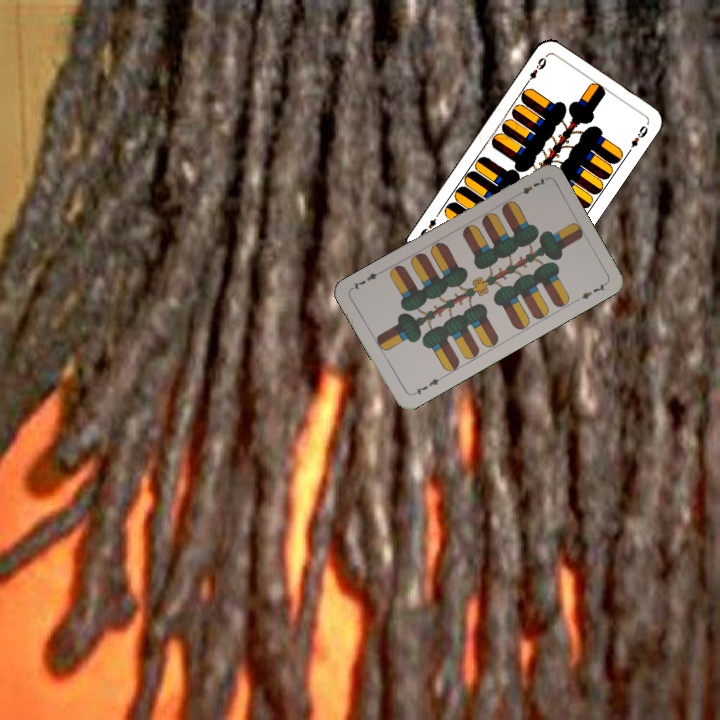E7: (511, 174, 548, 200), (408, 373, 445, 398)
E9: (521, 53, 549, 87)
